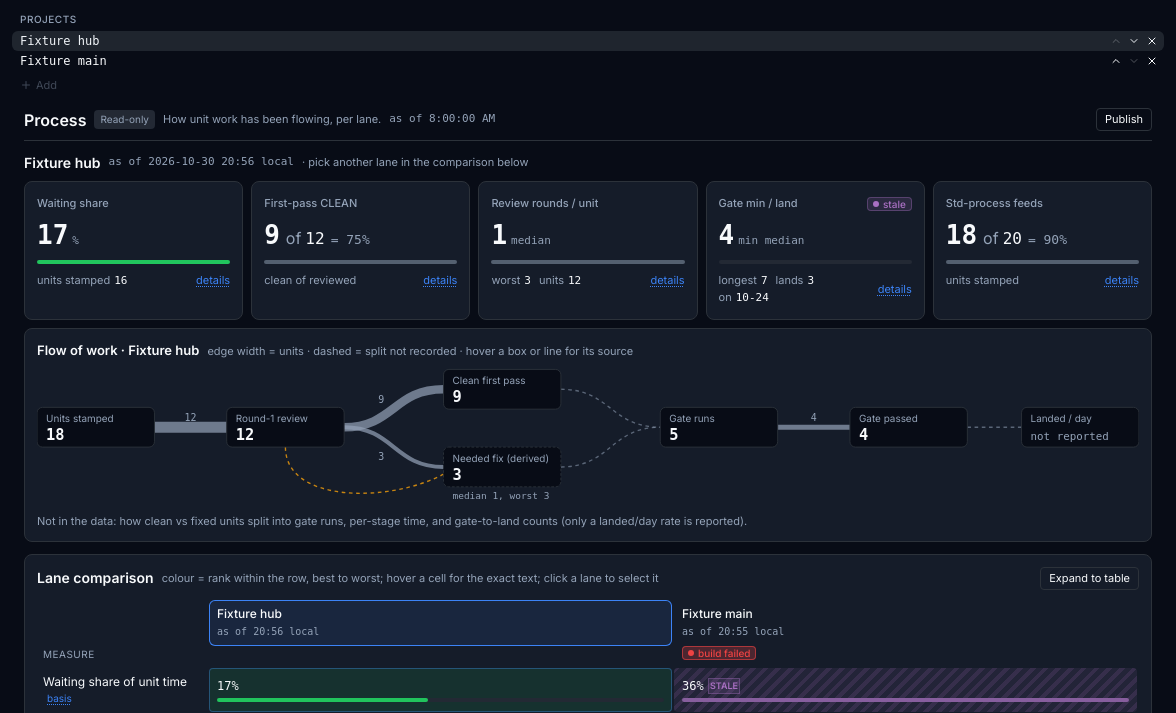
Scenario: COMP-COCKPIT-FLEET-PROJECTS-1 PROJECTS list › a failed POST rolls the order back and shows an error line
Click the button with test id "fleet-project-up-main": (1116, 61) [1108,53,1124,69]
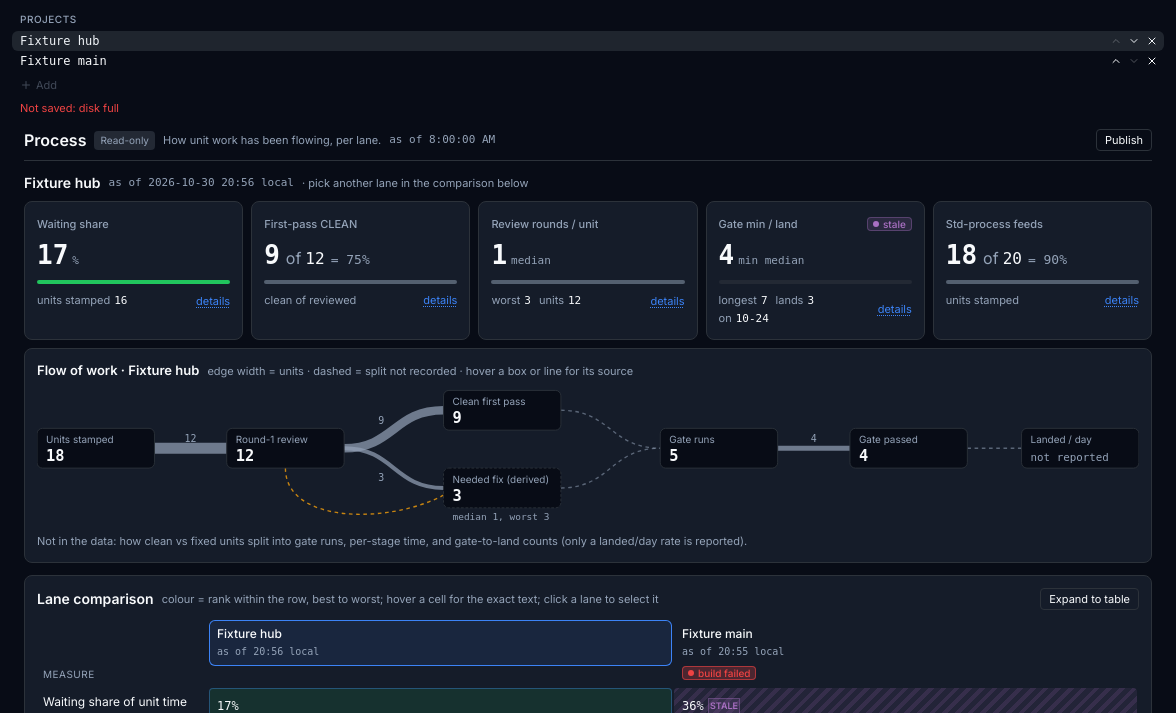
Now the message with test id "fleet-projects-error" shows "disk full", box [20,100,119,114]
